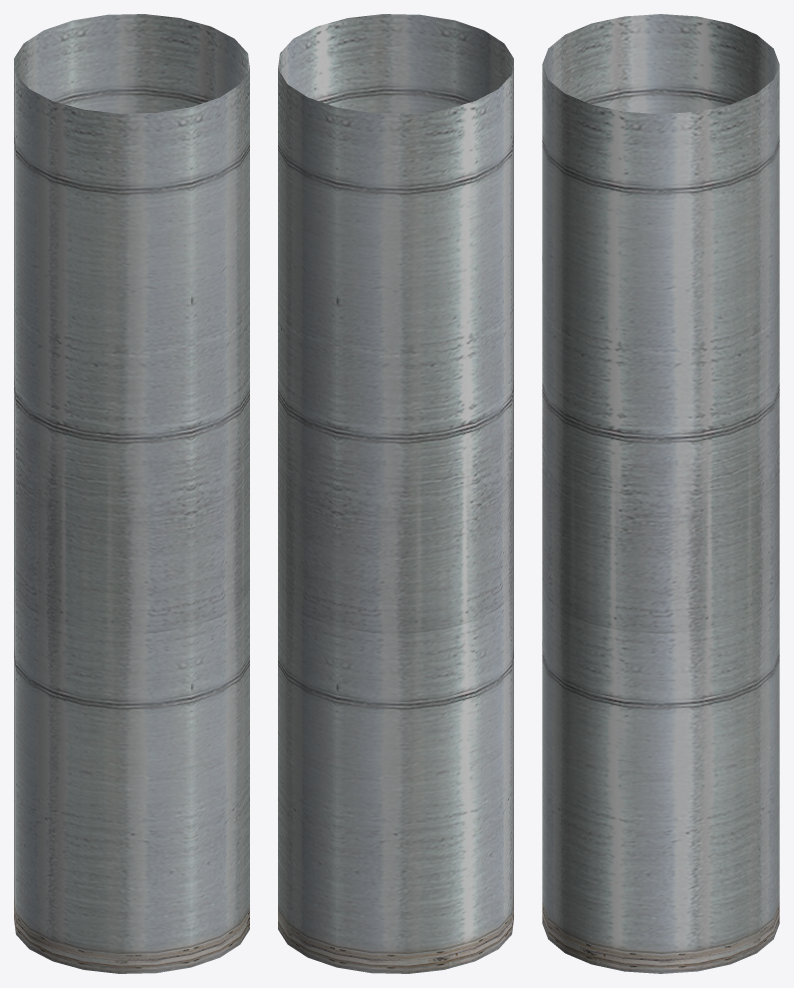
Rendered from Pipe_A_1mts_03.fbx.
The picture shows the model from 3 angles, left to right: view 1: azimuth 30°, elevation 25°; view 2: azimuth 150°, elevation 25°; view 3: azimuth 270°, elevation 25°; orthographic projection.
Parts seen in each view (by area): view 1: Pipe_A_1mts_03; view 2: Pipe_A_1mts_03; view 3: Pipe_A_1mts_03.
Part boxes in pixels (x1,y1,x2,y2): Pipe_A_1mts_03: [14, 14, 249, 973]; Pipe_A_1mts_03: [278, 14, 513, 973]; Pipe_A_1mts_03: [542, 14, 779, 973].
Size of the model in its own units: 100 by 400 by 100.
Materials: 1 (1 with a texture image).
